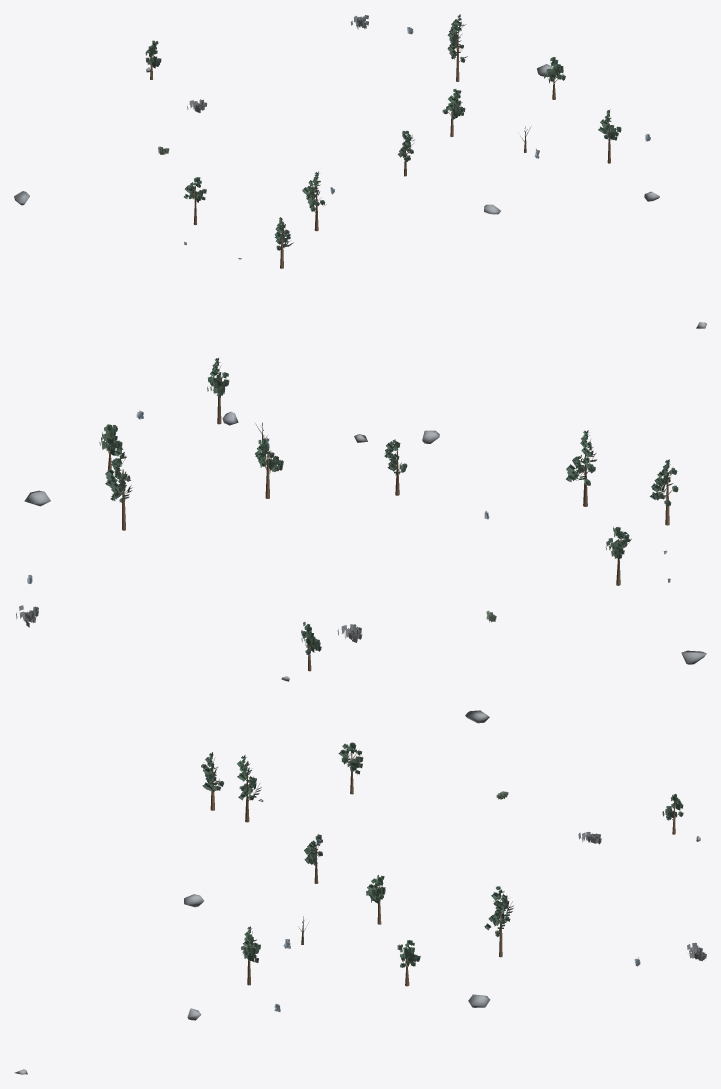
Rendered from frost_land_scatter_c18_13.glb.
3 views of the same model, one above another, from view 1: azimuth 30°, elevation 25°; view 2: azimuth 150°, elevation 25°; view 3: azimuth 270°, elevation 25° (orthographic). The views are drawn at different scales.
Parts seen in each view (by area): view 1: frost_land_scatter_c18_13; view 2: frost_land_scatter_c18_13; view 3: frost_land_scatter_c18_13.
Boxes of the visible parts, x1,y1,x2,y2 form: frost_land_scatter_c18_13: (14,14,706,328); frost_land_scatter_c18_13: (16,358,706,681); frost_land_scatter_c18_13: (14,710,706,1074).
Size of the model in its own units: 109 by 30.52 by 109.
